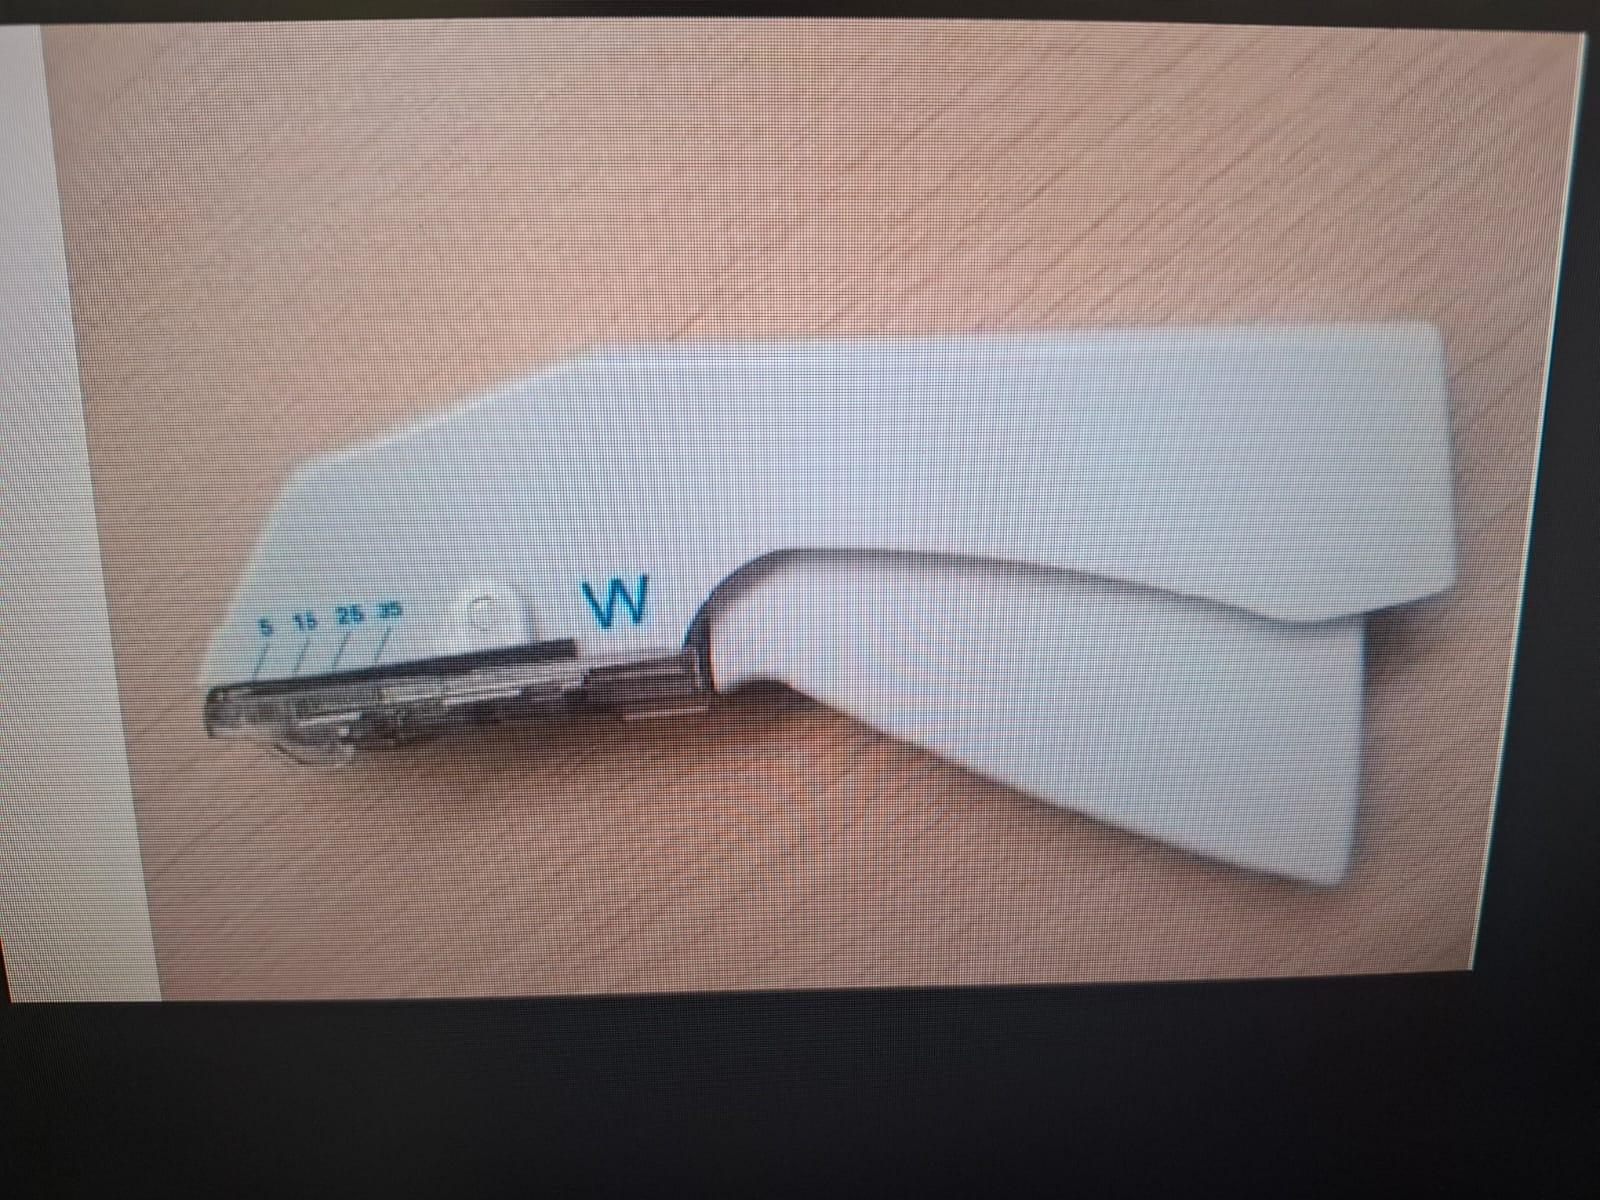Skin Stapler: (184, 302, 1468, 902)
